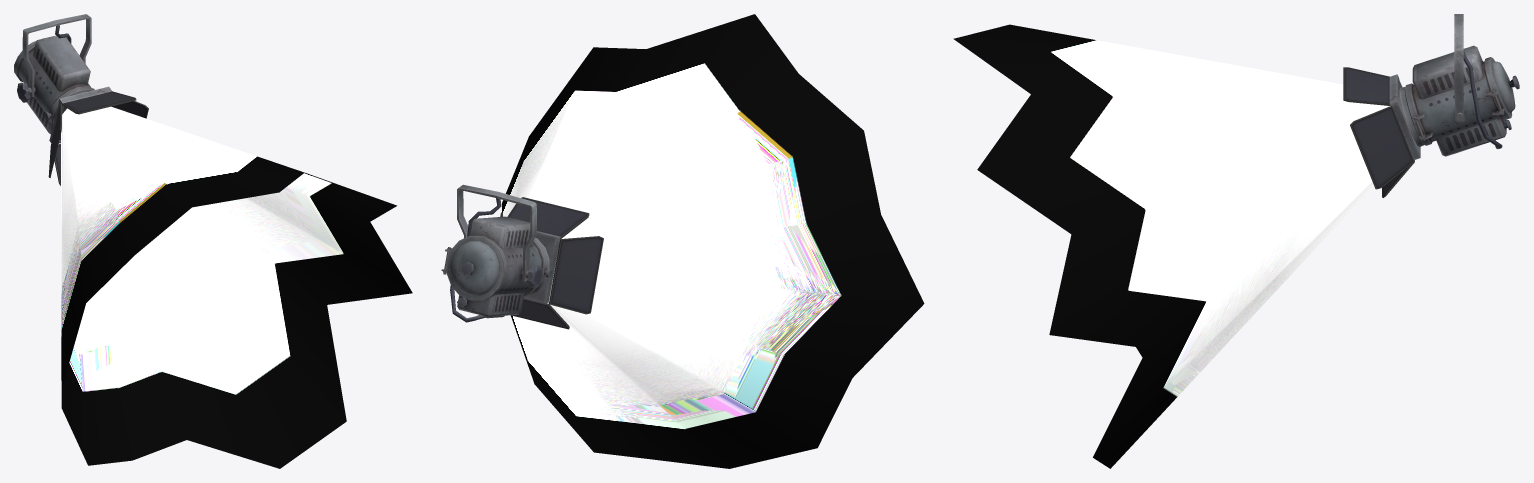
File: spotlight-bf2894.glb
3 renders of one model, left to right at view 1: azimuth 30°, elevation 25°; view 2: azimuth 150°, elevation 25°; view 3: azimuth 270°, elevation 25°, orthographic. The views are drawn at different scales.
Parts seen in each view (by area): view 1: PropMesh; view 2: PropMesh; view 3: PropMesh.
Boxes of the visible parts, x1,y1,x2,y2 form: PropMesh: [14, 14, 412, 468]; PropMesh: [441, 14, 924, 468]; PropMesh: [953, 14, 1519, 468].
Size of the model in its own units: 2.34 by 2.2 by 2.82.
Materials: 2 (2 with a texture image).
